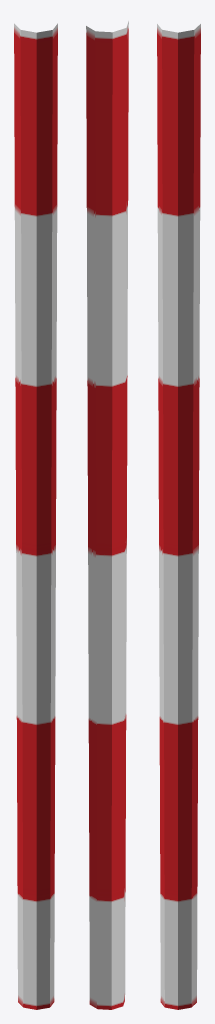
Rendered from trafficPole.gltf.
The picture shows the model from 3 angles, left to right: view 1: azimuth 90°, elevation 25°; view 2: azimuth 150°, elevation 25°; view 3: azimuth 270°, elevation 25°; orthographic projection.
Parts seen in each view (by area): view 1: model26; view 2: model26; view 3: model26.
Part boxes in pixels (x1,y1,x2,y2): model26: (14, 23, 57, 1009); model26: (86, 21, 128, 1009); model26: (157, 24, 200, 1009).
Size of the model in its own units: 0.2758 by 6.75 by 0.2744.
Materials: 1 (1 with a texture image).
